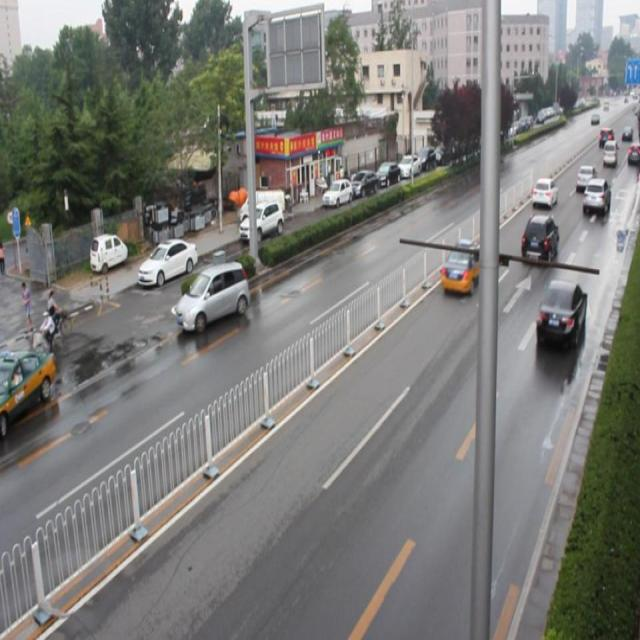car: (174, 259, 251, 335), (534, 278, 587, 342), (439, 239, 486, 297), (520, 212, 557, 262), (582, 180, 610, 215), (530, 173, 556, 207), (575, 162, 595, 192)
